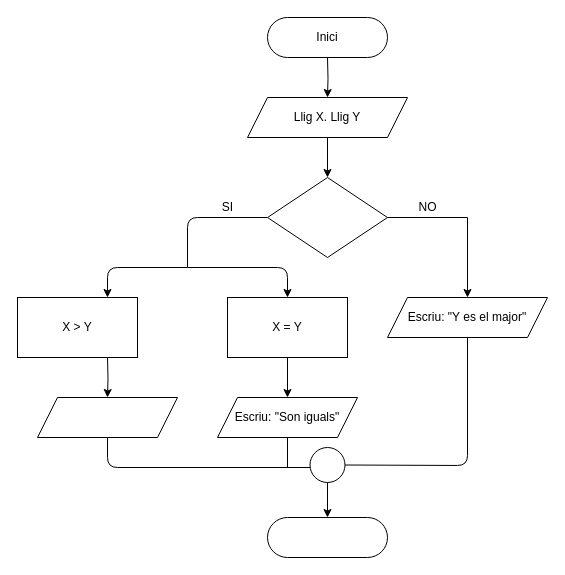
This 565x575 diagram has some shape labels left out. The centre of each missing label's shape, as x and y in pixels:
Escriu: "X es major": pixel 107 417
Fi: pixel 327 537
X >= Y: pixel 327 217
